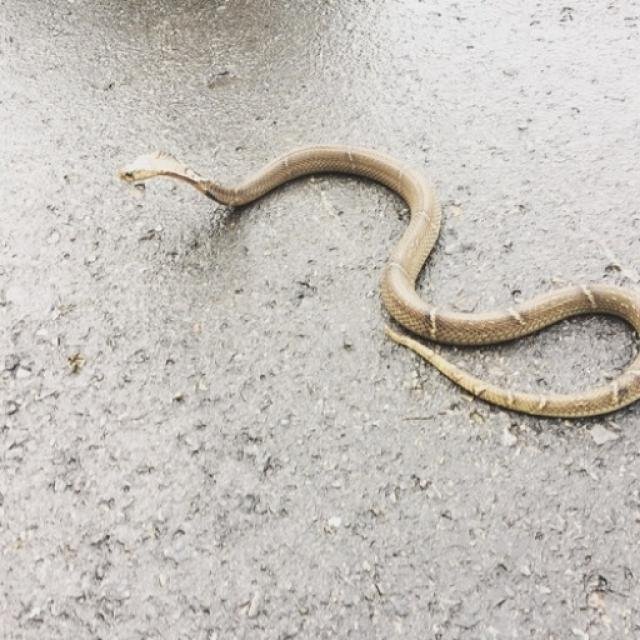snake: (119, 142, 640, 430)
